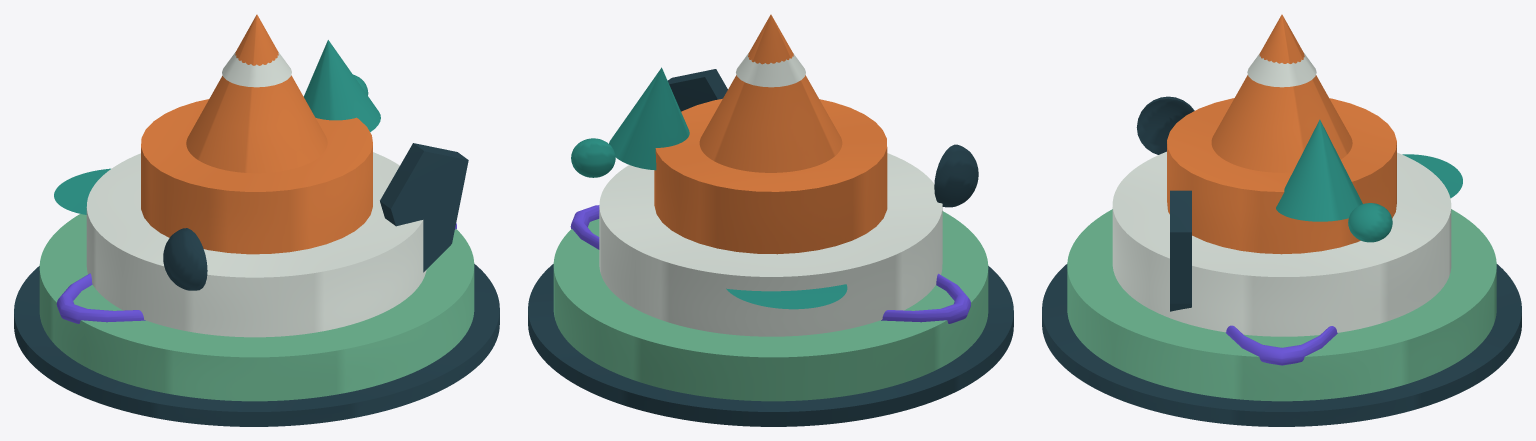
File: 0678_史前人类图鉴_史前贸易品.glb
3 views of the same model, side by side, from view 1: azimuth 30°, elevation 25°; view 2: azimuth 150°, elevation 25°; view 3: azimuth 270°, elevation 25° (orthographic).
Visible parts, largest first — view 1: card_0678; view 2: card_0678; view 3: card_0678.
Part boxes in pixels (x1=…): card_0678: x1=14, y1=14, x2=499, y2=426; card_0678: x1=528, y1=14, x2=1013, y2=426; card_0678: x1=1042, y1=14, x2=1521, y2=426.
Size of the model in its own units: 1.42 by 1 by 1.4.
